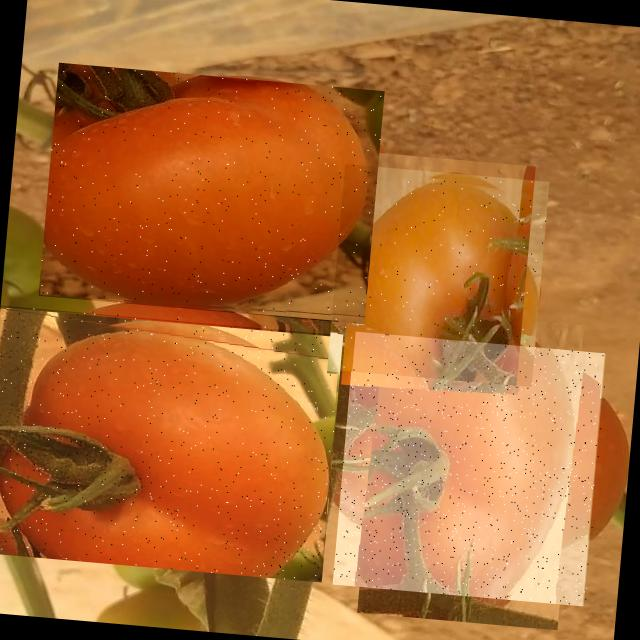Ripe Tomato: (0, 302, 343, 581), (38, 62, 384, 324), (332, 331, 608, 606), (327, 164, 549, 386)
